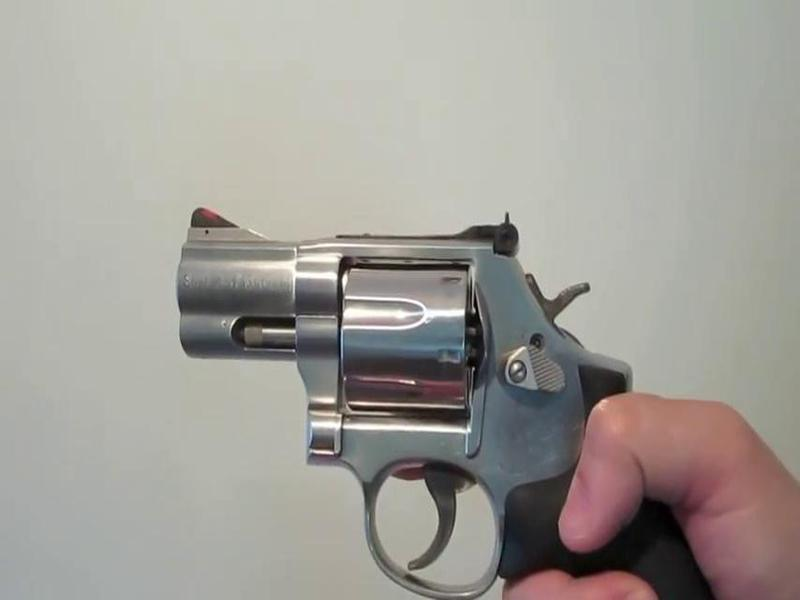Revolver: (164, 168, 677, 572)
